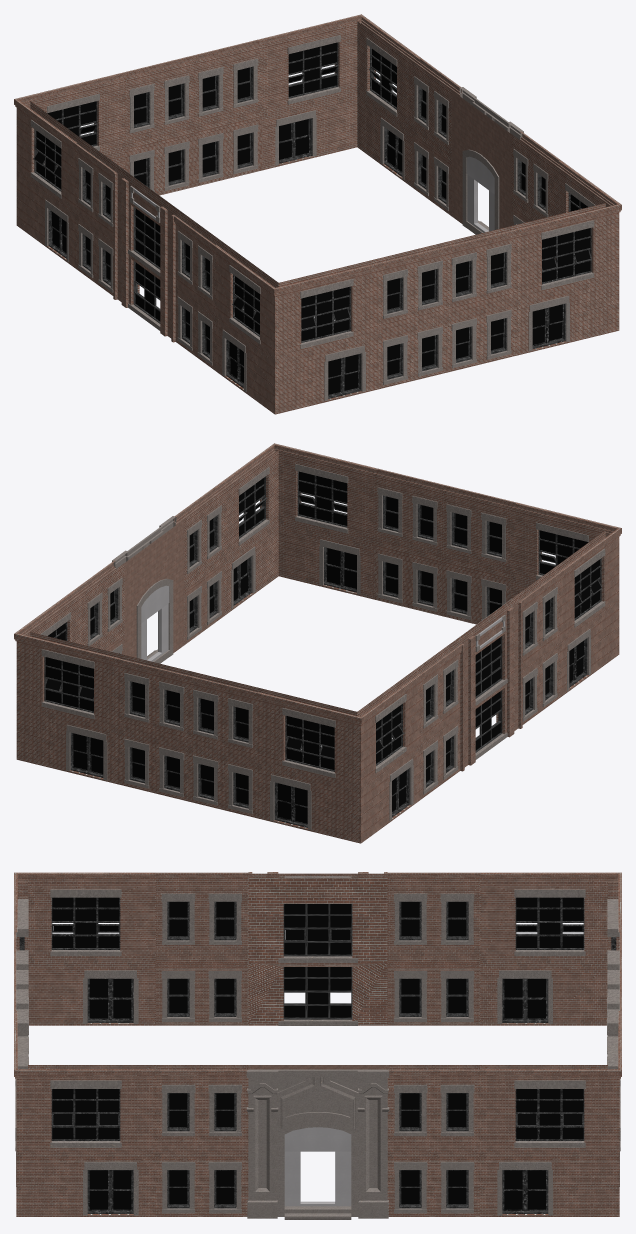
Rendered from BuildingB_Bottom_VarA.fbx.
The picture shows the model from 3 angles, top to bottom: view 1: azimuth 30°, elevation 25°; view 2: azimuth 150°, elevation 25°; view 3: azimuth 270°, elevation 25°; orthographic projection. The views are drawn at different scales.
Visible parts, largest first — view 1: BuildingB_Bottom_VarA; view 2: BuildingB_Bottom_VarA; view 3: BuildingB_Bottom_VarA.
Part boxes in pixels (x1,y1,x2,y2): BuildingB_Bottom_VarA: [14, 14, 621, 414]; BuildingB_Bottom_VarA: [14, 443, 621, 843]; BuildingB_Bottom_VarA: [14, 872, 621, 1219].
Bounding box in the file's own units: 2044 × 700 × 2620.
